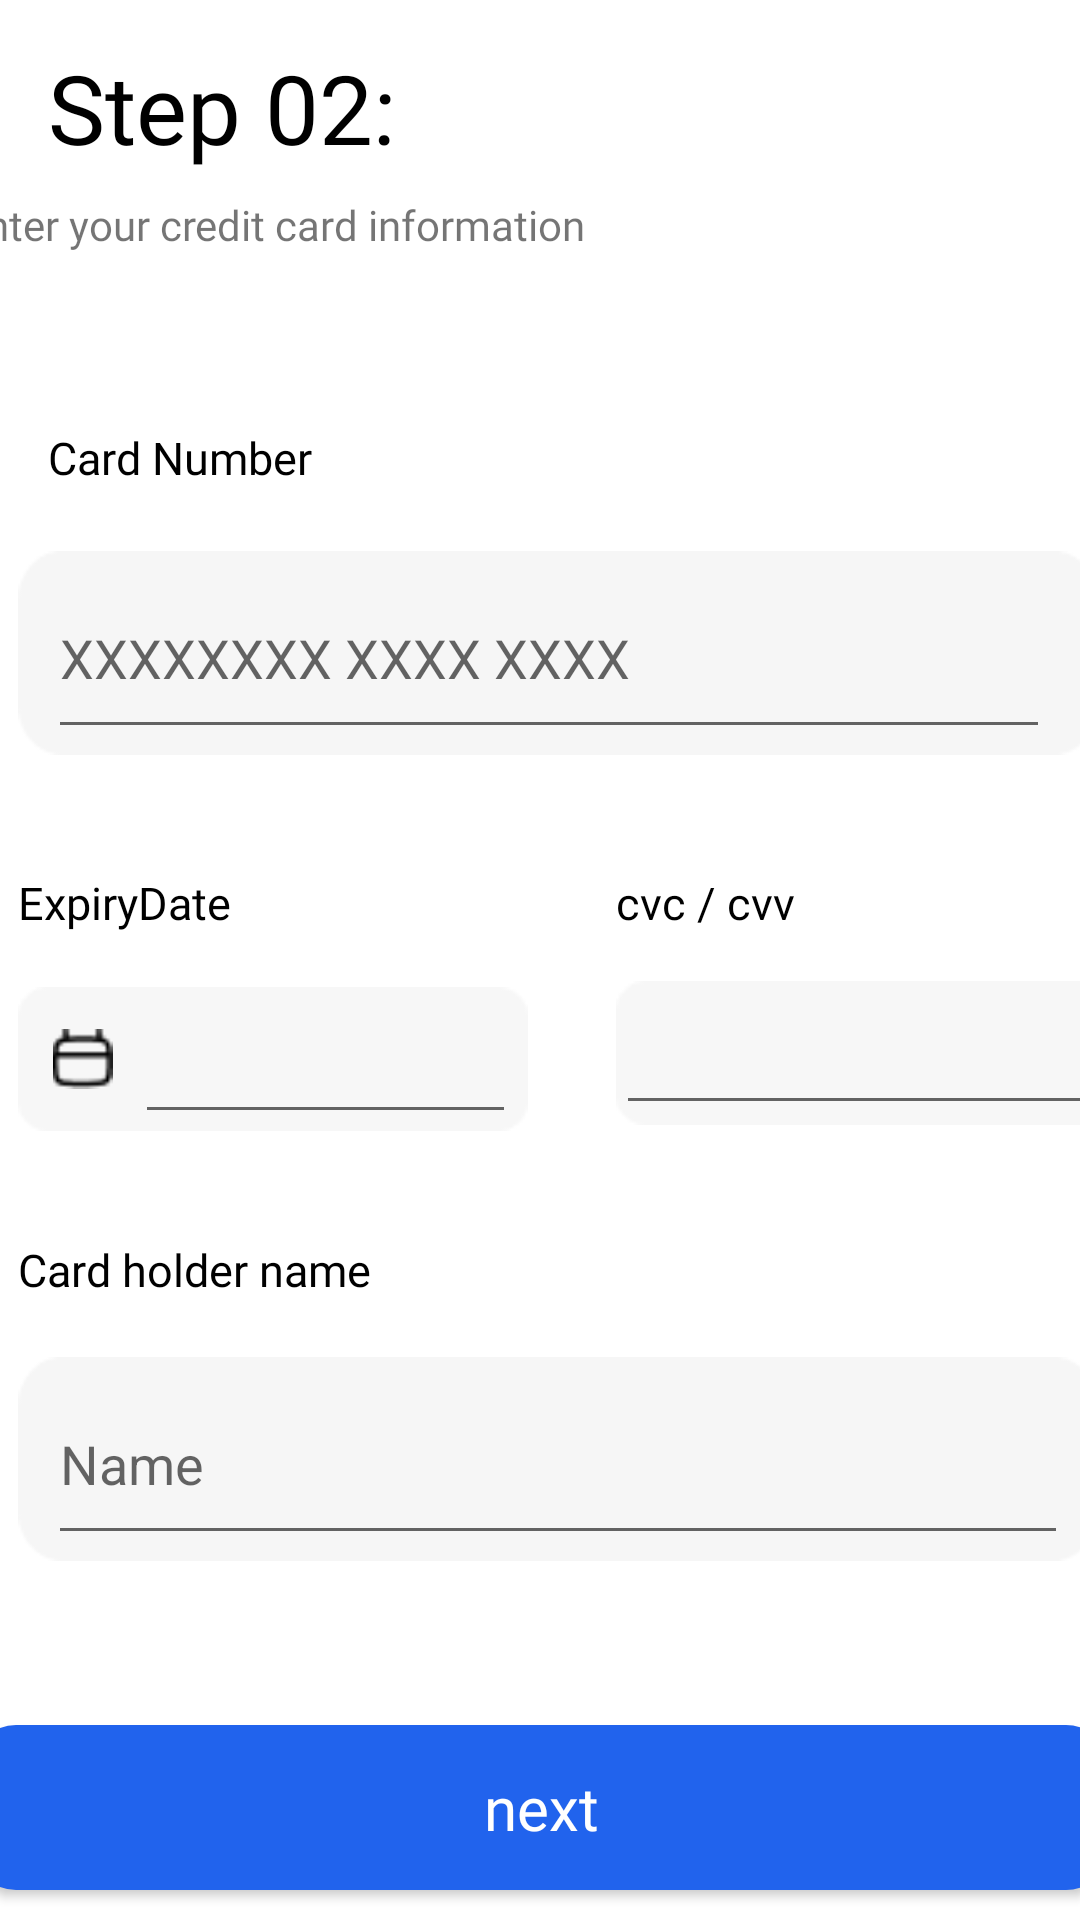

Screen size 1080 x 1920. Icon name, then its box in pixels as (x1=x1, y1=y1, x2=x2, y2=y2):
calendaricon: (x1=53, y1=1029, x2=113, y2=1089)
